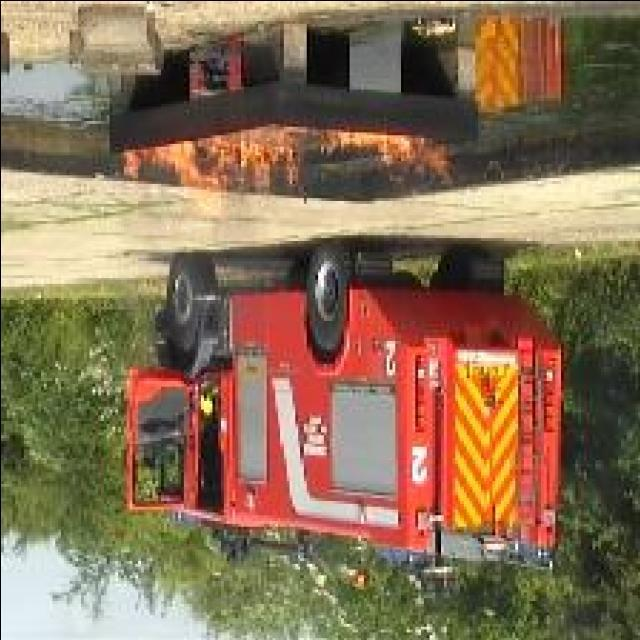Fire: (120, 125, 320, 218), (323, 128, 451, 180)
